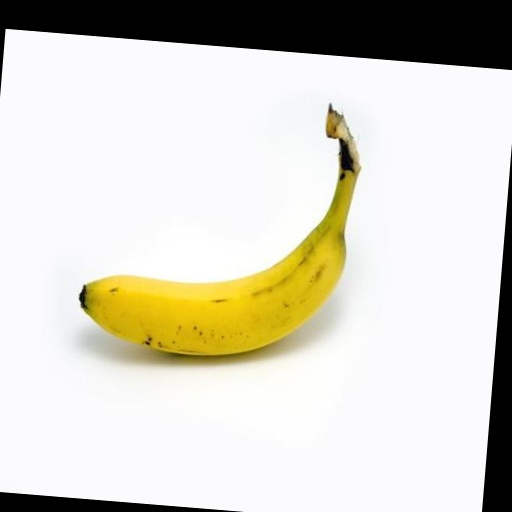fruit: (80, 106, 360, 355)
